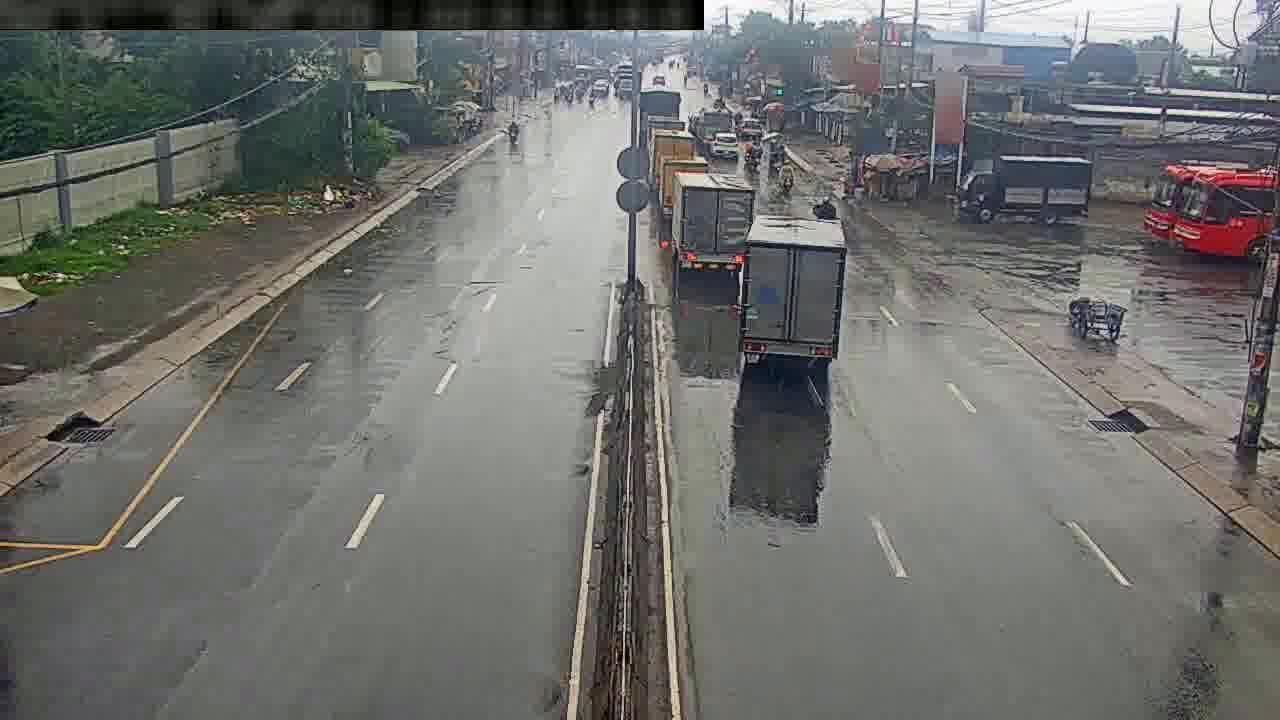8: (738, 221, 850, 367), (674, 169, 756, 275)
motorbike: (766, 142, 783, 183), (507, 112, 520, 149)
